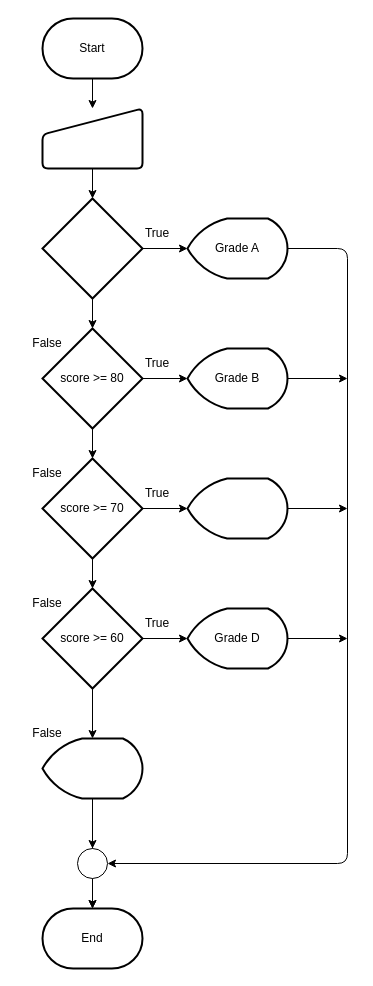
Image size: 373x986. Some labels were removed from this diagram. Each missing label, with the centre of its shape:
Grade C: point 237,508
Grade F: point 92,768
score: point 92,138
score >= 90: point 92,248
